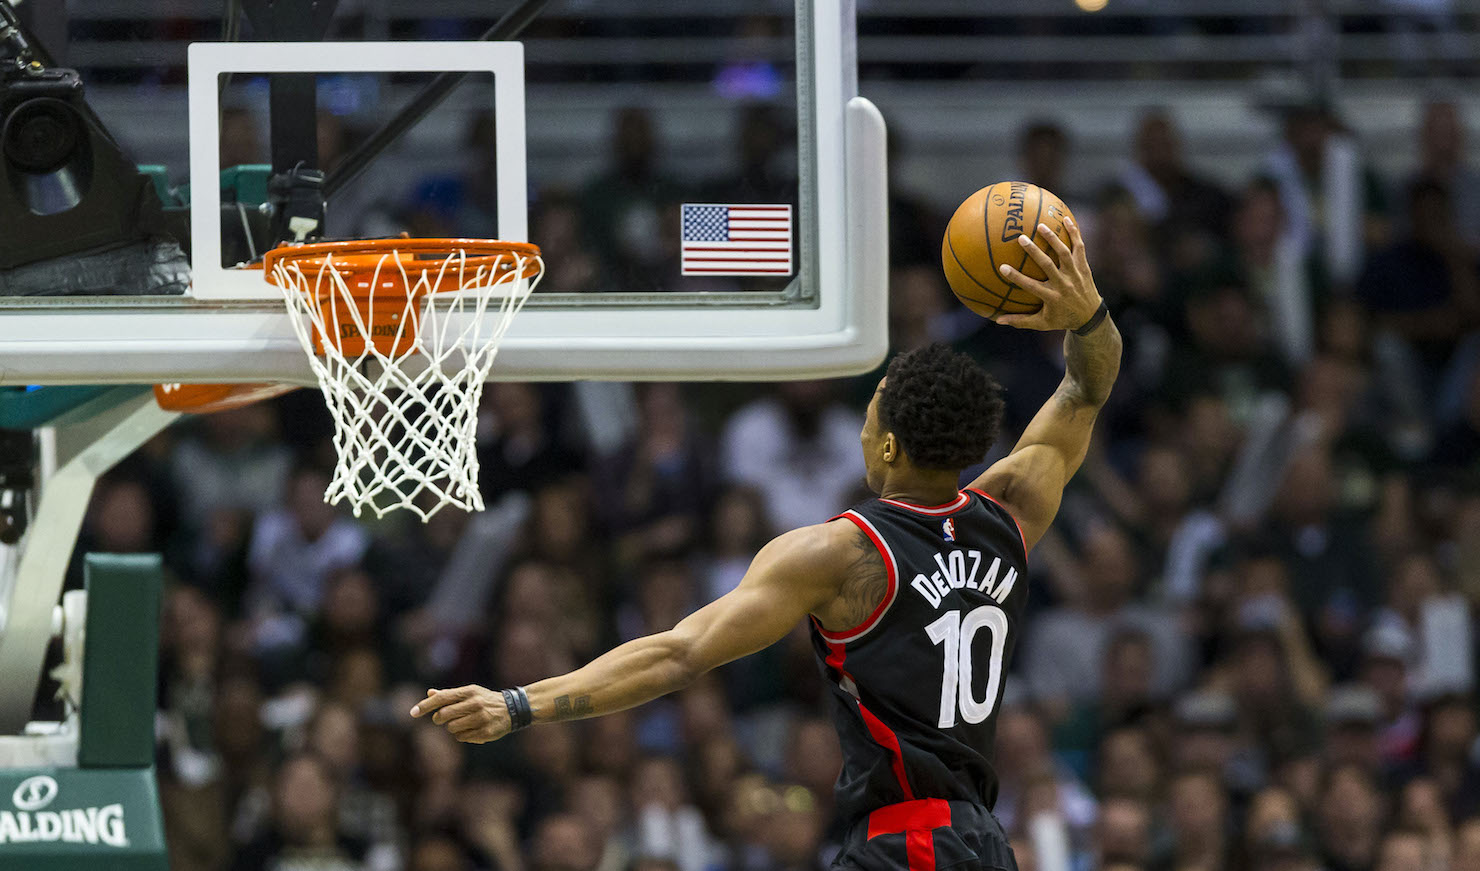ball: (917, 169, 1097, 334)
basket: (233, 216, 553, 539)
shoot: (741, 149, 1142, 870)
